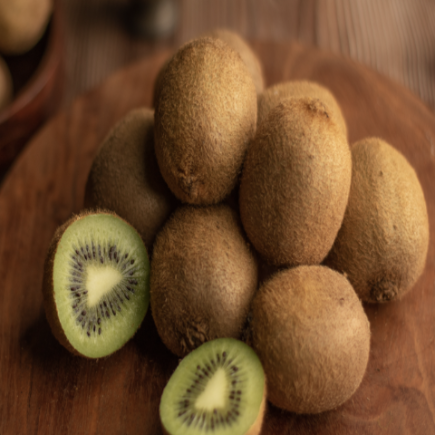kiwi: (231, 264, 383, 410), (226, 91, 355, 261), (135, 200, 261, 365), (143, 28, 259, 199), (328, 135, 430, 321)
